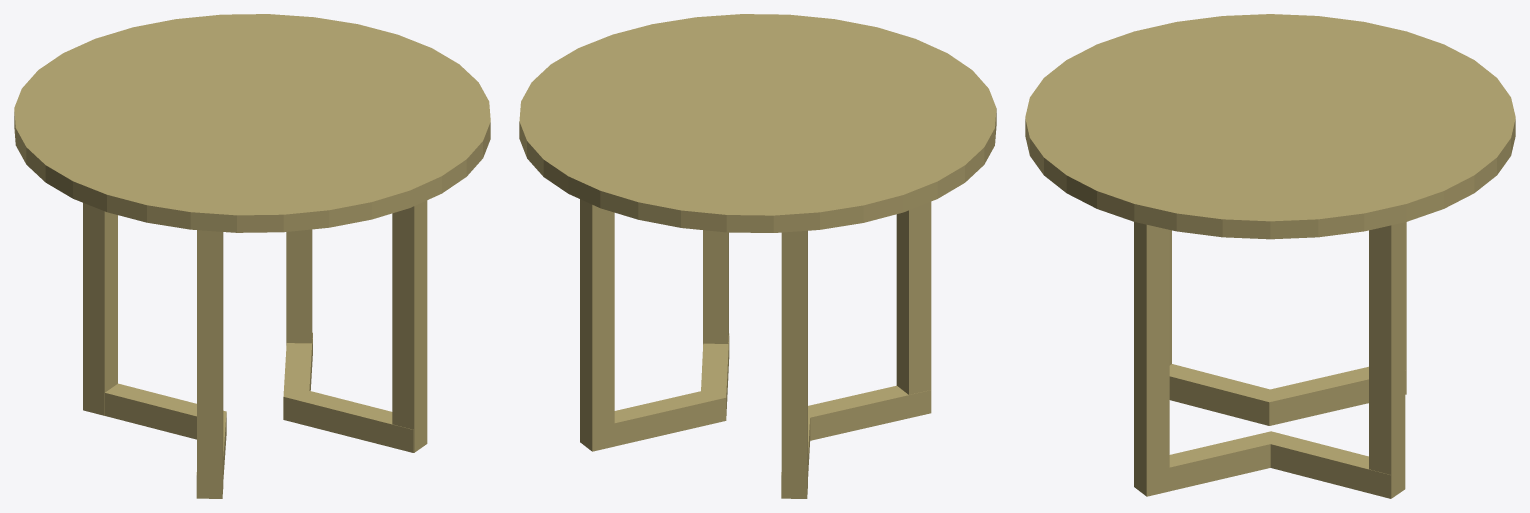
File: chair_2.glb
The picture shows the model from 3 angles, left to right: view 1: azimuth 30°, elevation 25°; view 2: azimuth 150°, elevation 25°; view 3: azimuth 270°, elevation 25°; orthographic projection. The views are drawn at different scales.
Parts seen in each view (by area): view 1: 柱体.001; view 2: 柱体.001; view 3: 柱体.001.
Part boxes in pixels (<box>): 柱体.001: <box>14,14,490,498</box>; 柱体.001: <box>519,14,996,498</box>; 柱体.001: <box>1025,14,1515,498</box>.
Size of the model in its own units: 0.5934 by 0.4292 by 0.5934.
